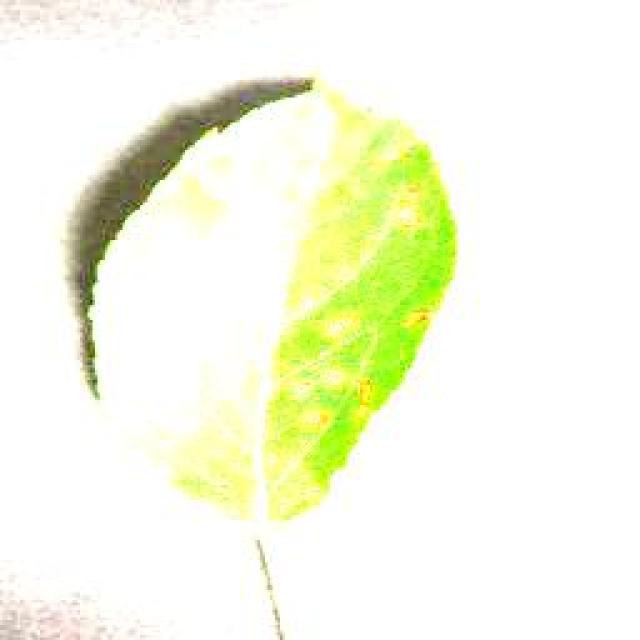apple healthy: (60, 70, 460, 525)
